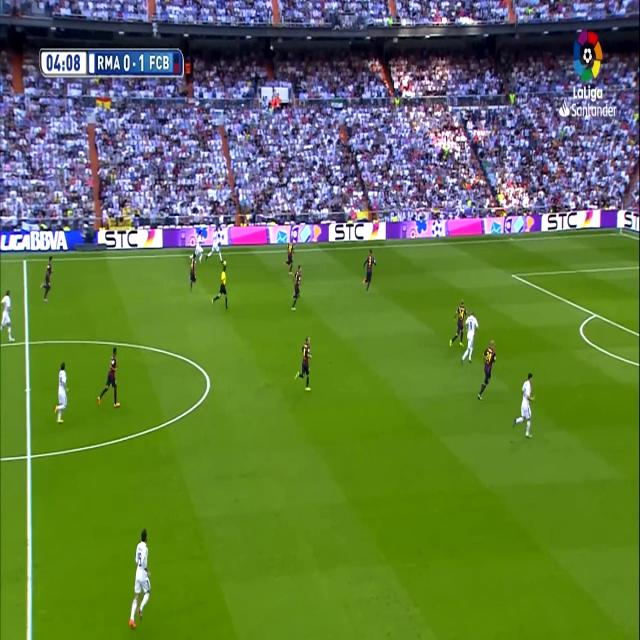corner: (616, 228, 624, 238)
halfcircle_bottom: (22, 439, 36, 472)
halfcircle_top: (20, 328, 32, 355)
midline_top_intersection: (20, 252, 30, 268)
top_arc_area_intersection: (590, 306, 600, 322)
